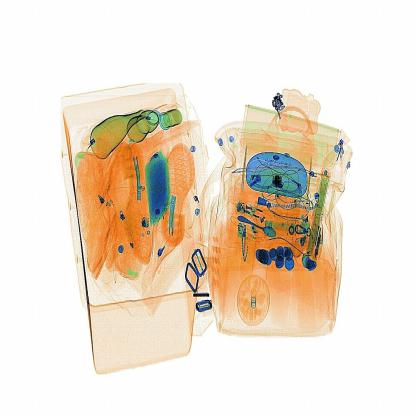scissors: (270, 170, 286, 191)
